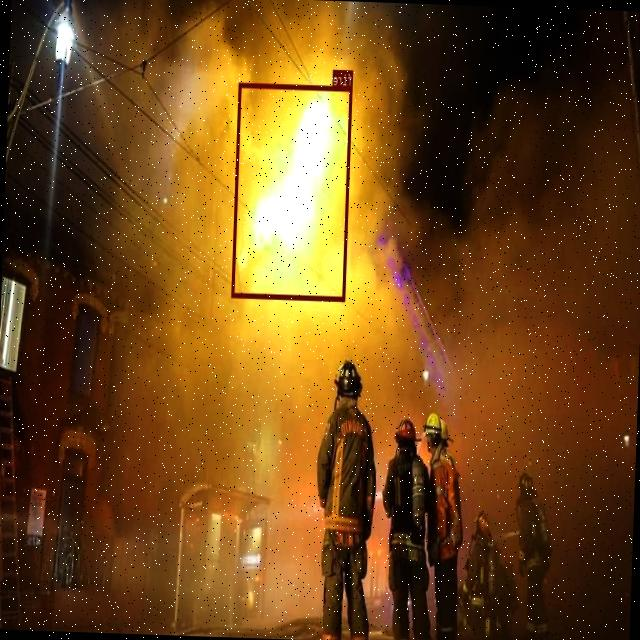fire: (232, 82, 352, 300)
